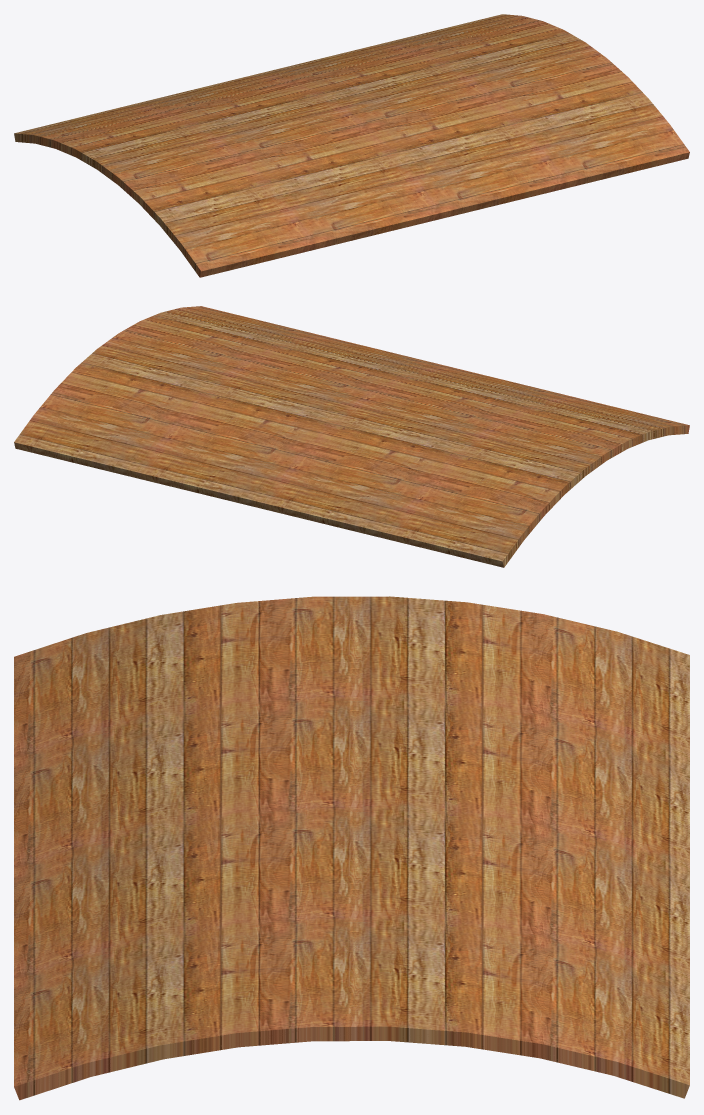
The model's file is barnroof.FBX.
3 views of the same model, one above another, from view 1: azimuth 30°, elevation 25°; view 2: azimuth 150°, elevation 25°; view 3: azimuth 270°, elevation 25° (orthographic). The views are drawn at different scales.
Parts seen in each view (by area): view 1: Barn-roof; view 2: Barn-roof; view 3: Barn-roof.
Boxes of the visible parts, x1,y1,x2,y2 form: Barn-roof: [14, 14, 689, 277]; Barn-roof: [14, 306, 689, 567]; Barn-roof: [14, 596, 689, 1100].
Size of the model in its own units: 613 by 49 by 407.
